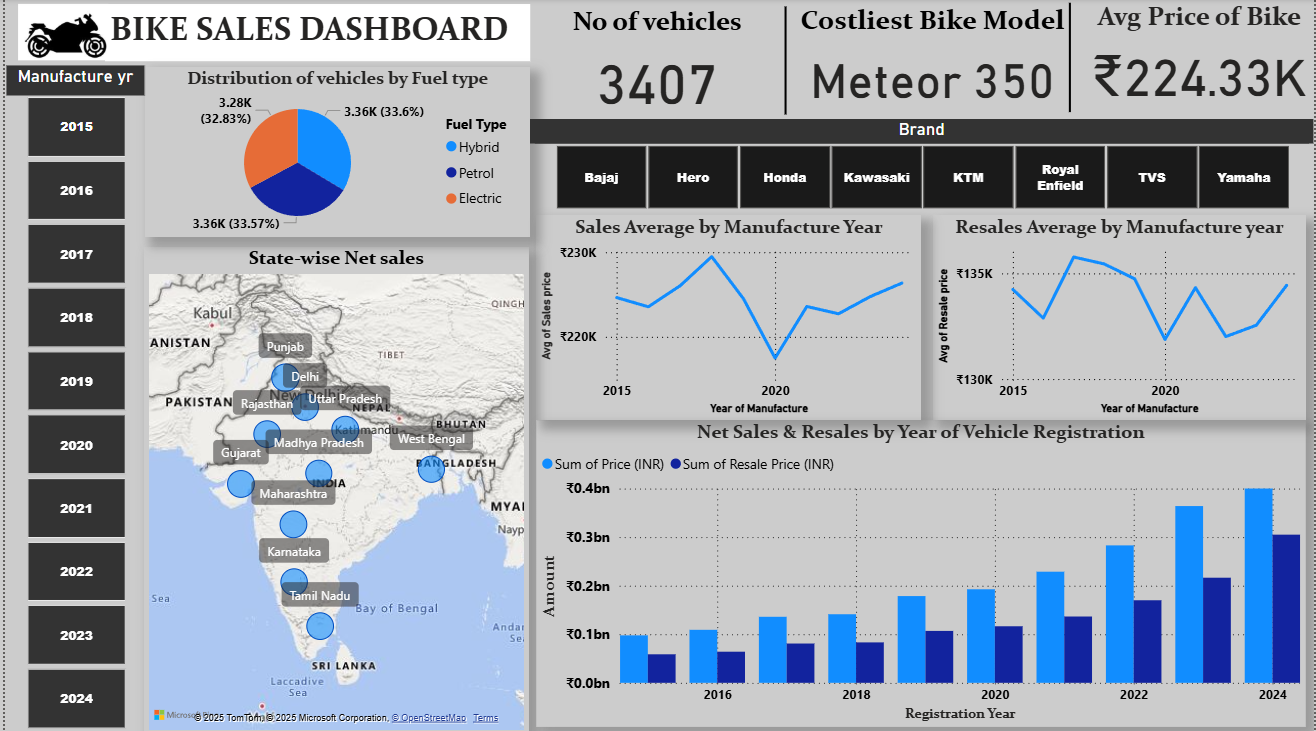

This screenshot's page, from the dashboard's own definition file:
{"tool":"powerbi","page":{"name":"Page 1","canvas":[1280,720],"ordinal":0},"visuals":[{"type":"map","title":"State-wise Net sales","fields":{"Category":["bike_sales_india.State"],"Size":["Sum(bike_sales_india.Price (INR))"]},"box":[135.6,242.6,376.9,477.7],"z":0},{"type":"textbox","box":[97.5,5,416.2,56.2],"z":1000},{"type":"image","box":[0,0,113.8,65],"z":2000},{"type":"pieChart","title":"Distribution of vehicles by Fuel type","fields":{"Category":["bike_sales_india.Fuel Type"],"Y":["CountNonNull(bike_sales_india.Brand)"]},"box":[136.8,65.9,376.9,166.7],"z":3000},{"type":"slicer","title":"Manufacture yr","fields":{"Values":["bike_sales_india.Year of Manufacture"]},"box":[1.2,64.7,135.6,655.6],"z":4000},{"type":"card","title":"Costliest Bike Model","fields":{"Values":["bike_sales_india.Brand_max_price"]},"box":[763.8,3.7,286.1,110.7],"z":5000},{"type":"clusteredColumnChart","title":"Net Sales & Resales by Year of Vehicle Registration","fields":{"Category":["bike_sales_india.Registration Year"],"Y":["Sum(bike_sales_india.Price (INR))","Sum(bike_sales_india.Resale Price (INR))"]},"box":[520,411.8,752.6,299.8],"z":6000},{"type":"card","title":"Avg Price of Bike","fields":{"Values":["Avg(bike_sales_india.Price (INR))"]},"box":[1056.1,1.2,223.9,109.5],"z":7000},{"type":"slicer","title":"Brand","fields":{"Values":["bike_sales_india.Brand"]},"box":[513.8,116.9,766.3,94.5],"z":8000},{"type":"card","title":"No of vehicles","fields":{"Values":["CountNonNull(bike_sales_india.Brand)"]},"box":[512.5,6.2,251.3,110.7],"z":9000},{"type":"shape","box":[731.4,7.5,64.7,105.7],"z":10000},{"type":"shape","box":[1012.6,3.7,58.5,107],"z":11000},{"type":"lineChart","title":"Sales Average by Manufacture Year","fields":{"Category":["bike_sales_india.Year of Manufacture"],"Y":["Avg(bike_sales_india.Price (INR))"]},"box":[520,211.5,376.9,200.3],"z":12000},{"type":"lineChart","title":"Resales Average by Manufacture year","fields":{"Category":["bike_sales_india.Year of Manufacture"],"Y":["Avg(bike_sales_india.Resale Price (INR))"]},"box":[906.8,211.5,365.7,200.3],"z":13000}]}

Visuals, with their boxes in screenshot pixels (x1, y1, x2, y2), scaled from the page's 1280x720 canvas onto the 1316x731 screenshot:
"State-wise Net sales" map: left=139, top=246, right=527, bottom=730
textbox: left=100, top=5, right=528, bottom=62
image: left=0, top=0, right=117, bottom=66
"Distribution of vehicles by Fuel type" pieChart: left=141, top=67, right=528, bottom=236
"Manufacture yr" slicer: left=1, top=66, right=141, bottom=730
"Costliest Bike Model" card: left=785, top=4, right=1079, bottom=116
"Net Sales & Resales by Year of Vehicle Registration" clusteredColumnChart: left=535, top=418, right=1308, bottom=722
"Avg Price of Bike" card: left=1086, top=1, right=1315, bottom=112
"Brand" slicer: left=528, top=119, right=1315, bottom=215
"No of vehicles" card: left=527, top=6, right=785, bottom=119
shape: left=752, top=8, right=818, bottom=115
shape: left=1041, top=4, right=1101, bottom=112
"Sales Average by Manufacture Year" lineChart: left=535, top=215, right=922, bottom=418
"Resales Average by Manufacture year" lineChart: left=932, top=215, right=1308, bottom=418
